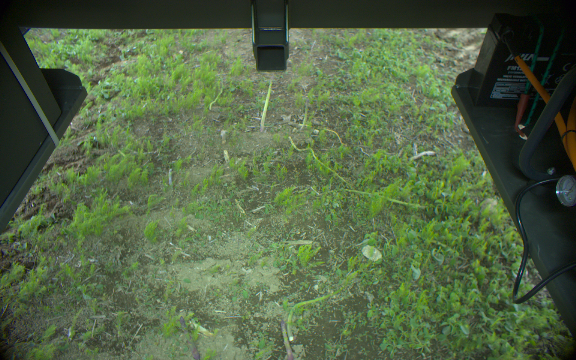aspa: (175, 313, 199, 360), (258, 74, 275, 135), (277, 318, 299, 360), (295, 94, 313, 130)
